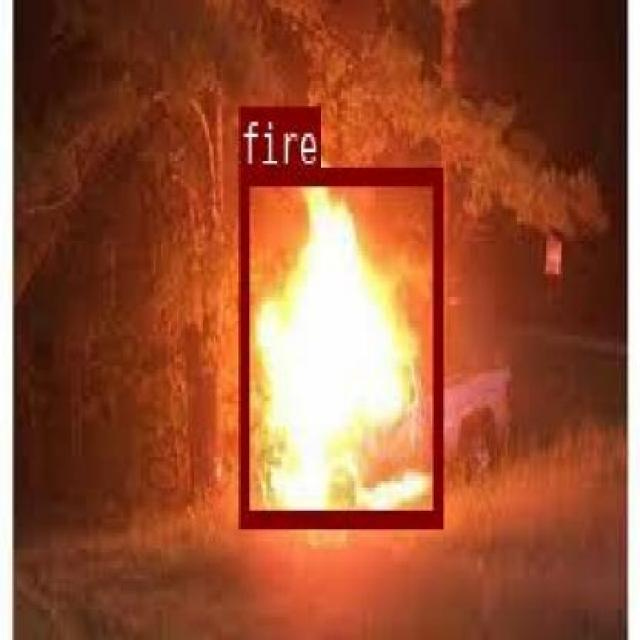Fire: (237, 163, 440, 522)
